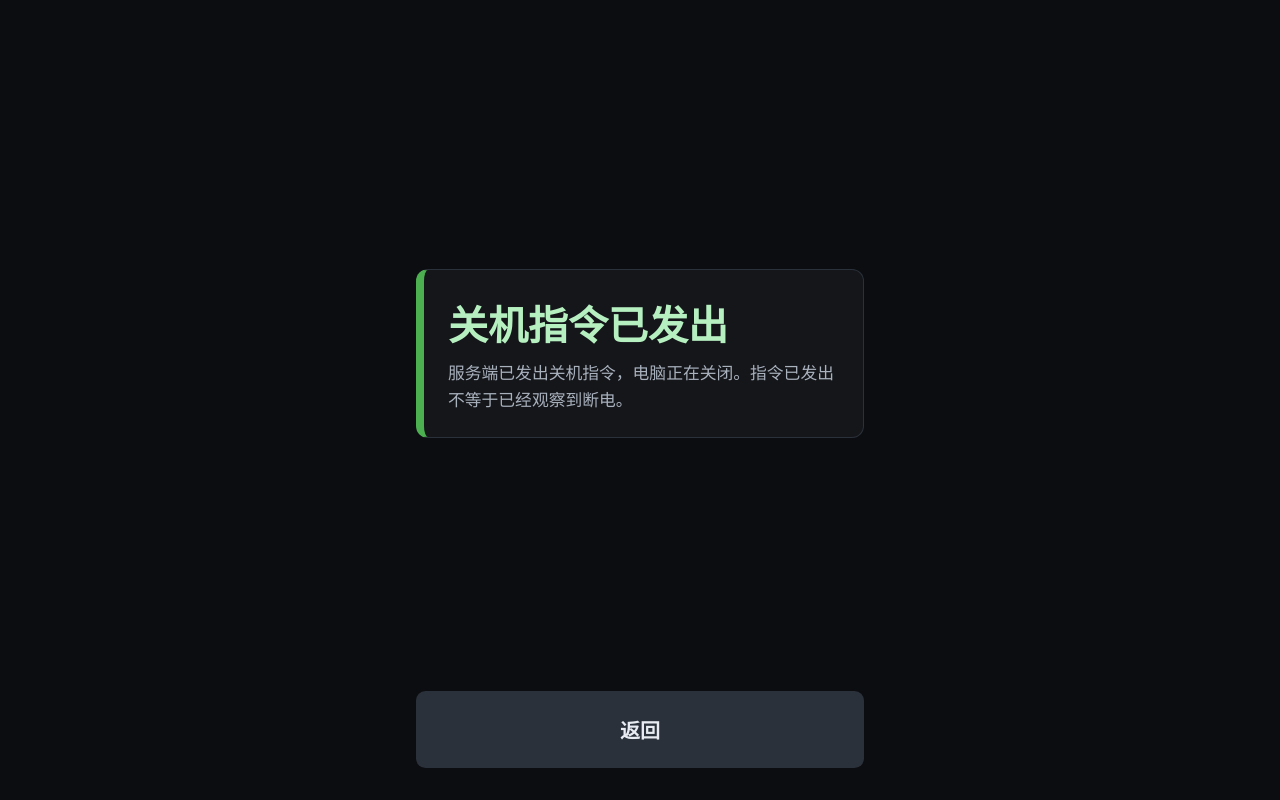
手动关机走后端权威倒计时 › 结果页的返回不发命令，也不影响后端的最近结果
The image size is (1280, 800).
Click the button with test id "shutdown-result-back" at (640, 730), box top-left (416, 691), bottom-right (864, 768)
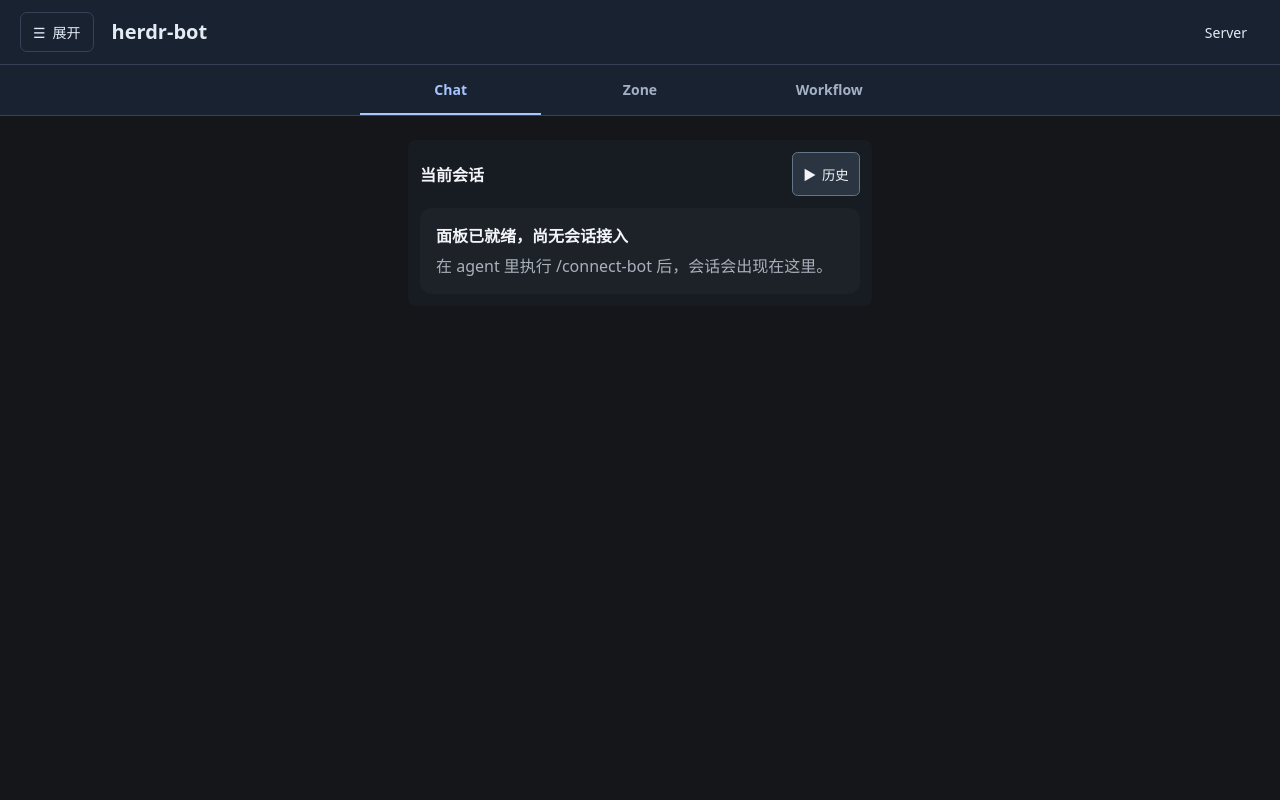
expect the dialog with test id "shutdown-takeover" is gone: met
